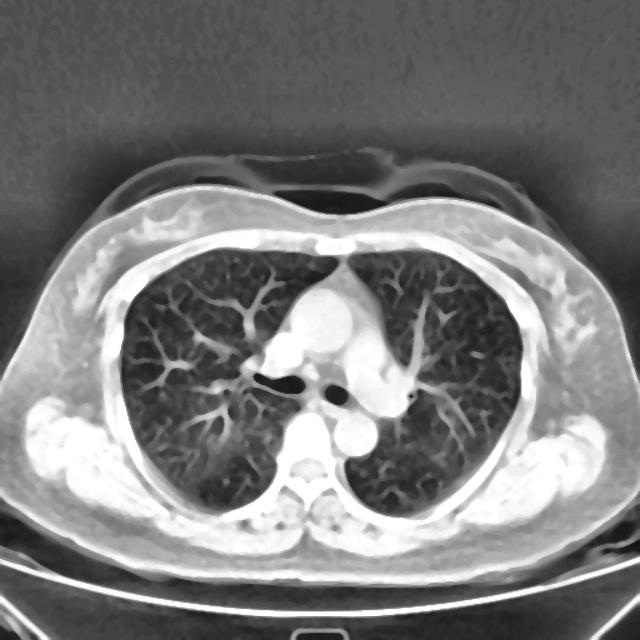covid: (1, 151, 638, 589)
